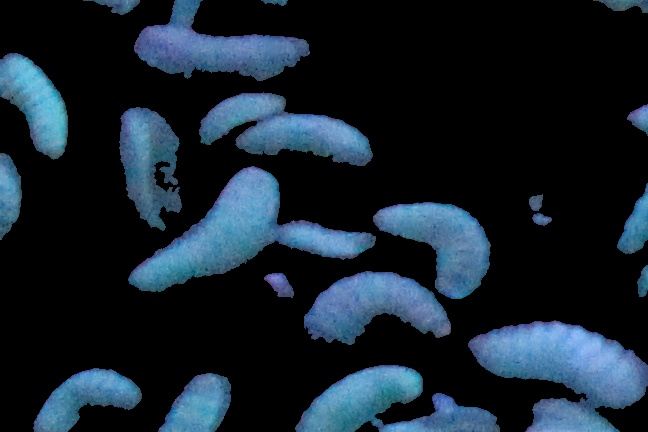larvae: (123, 168, 284, 299), (467, 311, 648, 411), (296, 273, 451, 366), (274, 354, 428, 432), (137, 23, 316, 85), (377, 200, 491, 293), (116, 104, 189, 238), (1, 48, 79, 164), (32, 359, 145, 432), (234, 118, 377, 171), (192, 90, 284, 155), (273, 211, 378, 266), (155, 371, 244, 432), (487, 1, 646, 9)
